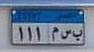1: (26, 25, 33, 42), (18, 25, 25, 42), (35, 26, 42, 42)
baa: (72, 28, 82, 42)
meem: (51, 26, 59, 42)
seen: (60, 27, 72, 41)
